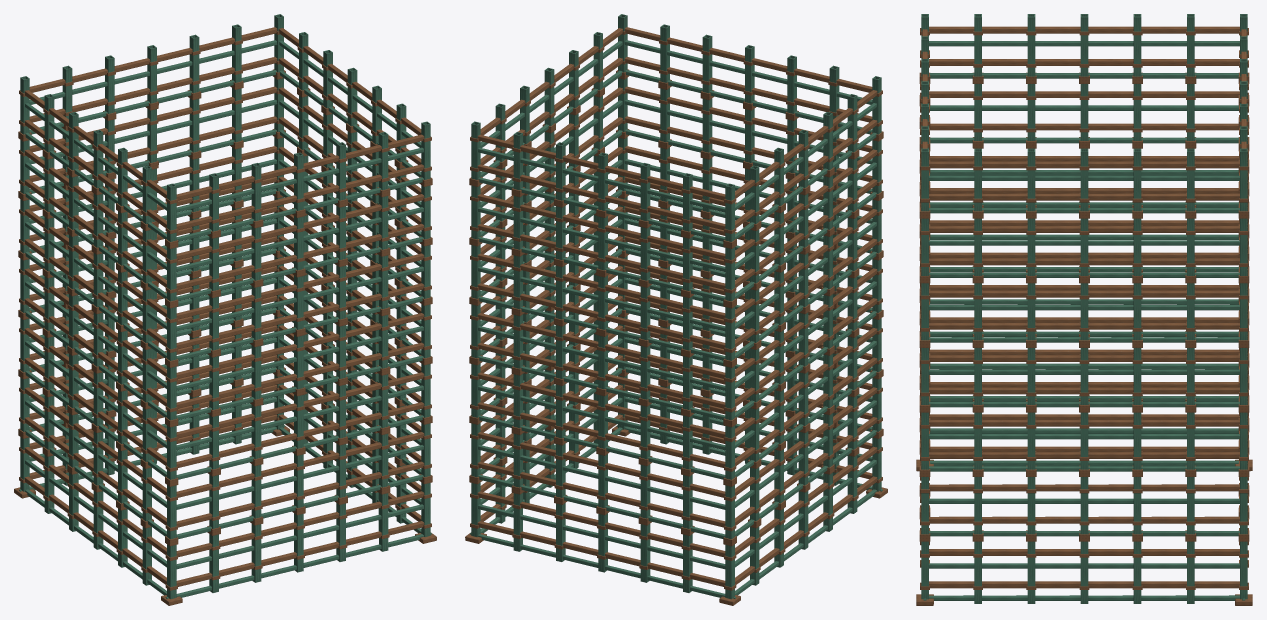
3 views of the same model, side by side, from view 1: azimuth 30°, elevation 25°; view 2: azimuth 150°, elevation 25°; view 3: azimuth 270°, elevation 25° (orthographic). The views are drawn at different scales.
Parts seen in each view (by area): view 1: no part large enough to name; view 2: no part large enough to name; view 3: Tier 6 side 1 post 2, Tier 6 side 1 post 3, Tier 6 side 1 post 4, Tier 6 side 3 post 2, Tier 6 side 3 post 3, Tier 6 side 3 post 4, Tier 0 side 1 post 2, Tier 0 side 1 post 3, Tier 0 side 1 post 4, Tier 1 side 1 post 2, Tier 1 side 1 post 3, Tier 1 side 1 post 4 (+23 smaller).
Boxes of the visible parts, bbox=[...] form: Tier 6 side 1 post 2: bbox=[1027, 148, 1035, 211]; Tier 6 side 1 post 3: bbox=[1080, 148, 1088, 211]; Tier 6 side 1 post 4: bbox=[1133, 148, 1141, 211]; Tier 6 side 3 post 2: bbox=[1133, 14, 1141, 76]; Tier 6 side 3 post 3: bbox=[1080, 14, 1088, 76]; Tier 6 side 3 post 4: bbox=[1027, 14, 1035, 76]; Tier 0 side 1 post 2: bbox=[1027, 541, 1035, 603]; Tier 0 side 1 post 3: bbox=[1080, 541, 1088, 603]; Tier 0 side 1 post 4: bbox=[1133, 541, 1141, 603]; Tier 1 side 1 post 2: bbox=[1027, 477, 1035, 534]; Tier 1 side 1 post 3: bbox=[1080, 477, 1088, 534]; Tier 1 side 1 post 4: bbox=[1133, 477, 1141, 534].
Bounding box in the file's own units: 2.85 × 4.22 × 2.85.
Materials: 2 (2 with a texture image).
